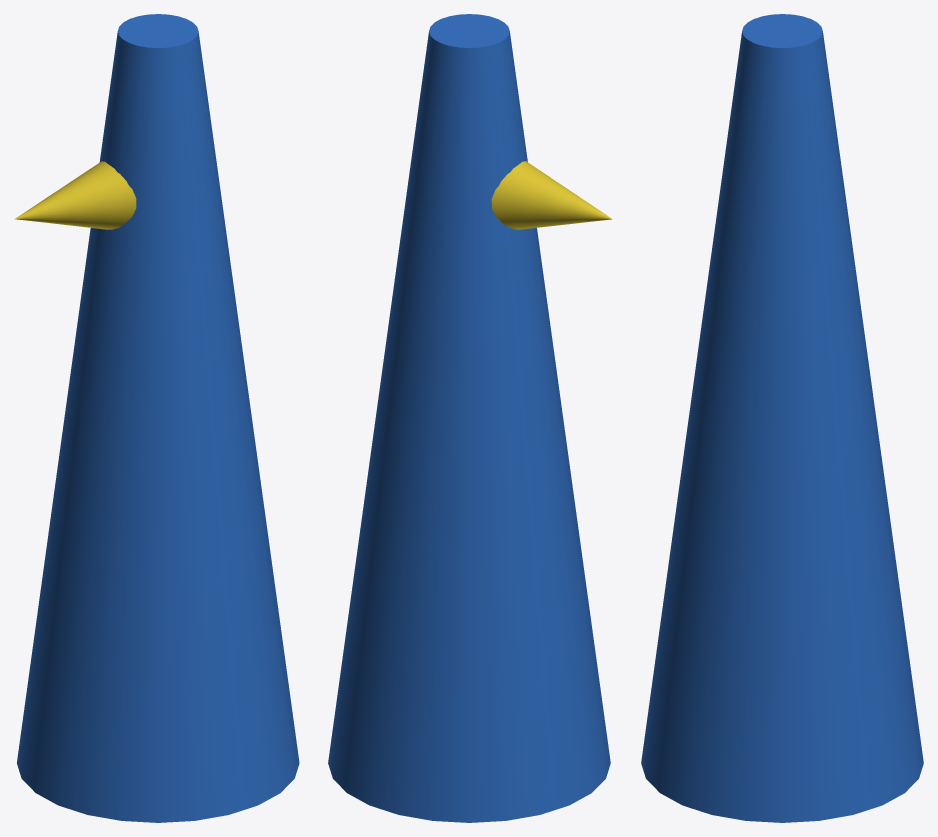
File: Skin_blue_Y_up.fbx
3 views of the same model, side by side, from view 1: azimuth 30°, elevation 25°; view 2: azimuth 150°, elevation 25°; view 3: azimuth 270°, elevation 25° (orthographic).
Parts seen in each view (by area): view 1: Cone001, Cone003; view 2: Cone001, Cone003; view 3: Cone001.
Part boxes in pixels (bbox=[...]): Cone001: bbox=[17, 14, 299, 822]; Cone003: bbox=[14, 161, 136, 229]; Cone001: bbox=[328, 14, 610, 822]; Cone003: bbox=[491, 161, 612, 229]; Cone001: bbox=[641, 14, 923, 822].
Bounding box in the file's own units: 28.3 × 74.42 × 26.05.
